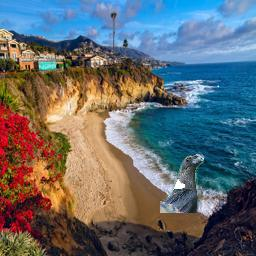Crow: (160, 154, 204, 213)
